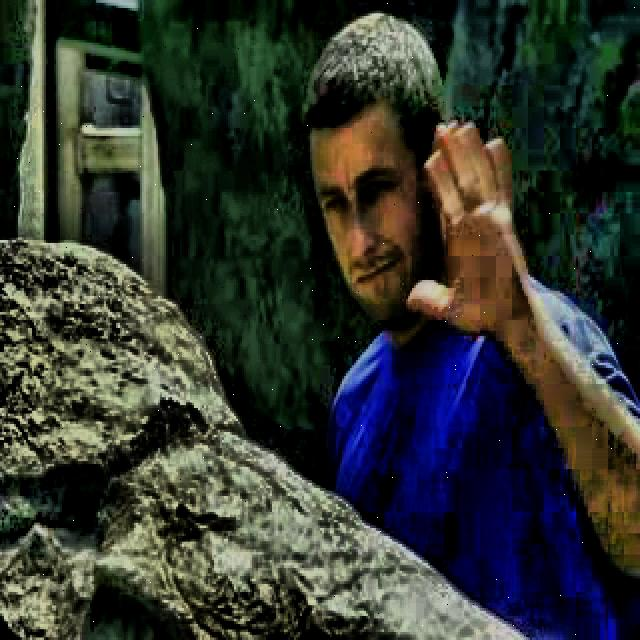L: (299, 0, 640, 640)
